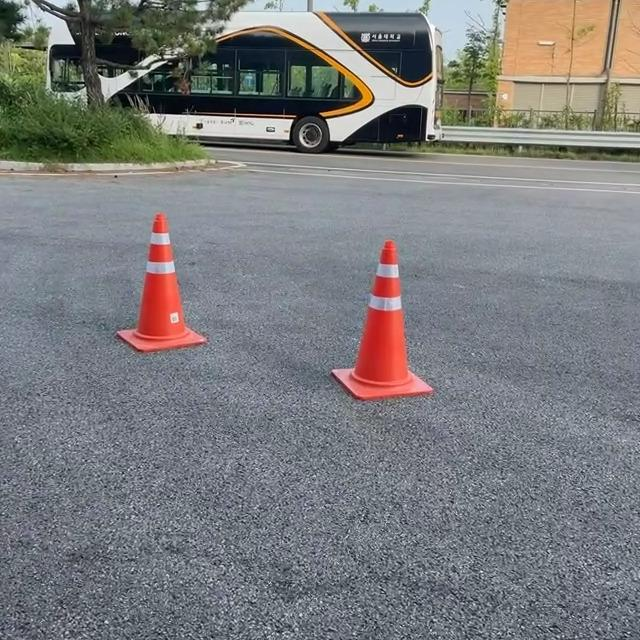fallen_object: (60, 189, 257, 363), (306, 222, 449, 437)
